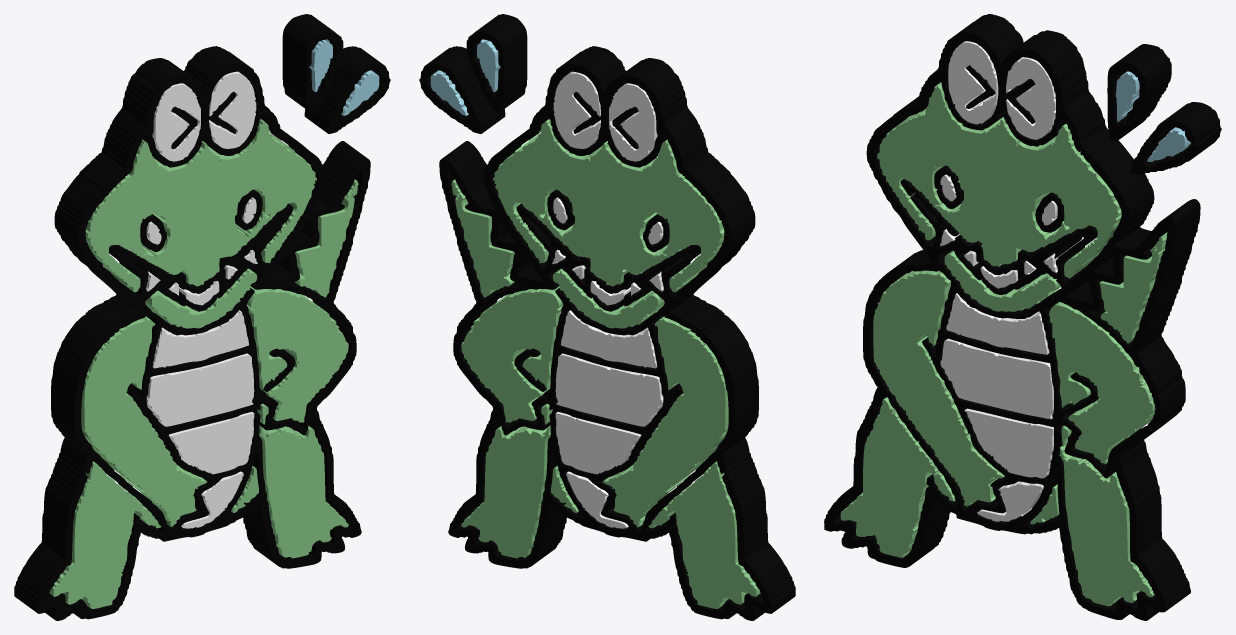
Rendered from keisatu-marker.fbx.
3 renders of one model, left to right at view 1: azimuth 30°, elevation 25°; view 2: azimuth 150°, elevation 25°; view 3: azimuth 330°, elevation 25°, orthographic. The views are drawn at different scales.
Visible parts, largest first — view 1: imagetostl_mesh; view 2: imagetostl_mesh; view 3: imagetostl_mesh.
Boxes of the visible parts, x1,y1,x2,y2 form: imagetostl_mesh: (14,14,390,620); imagetostl_mesh: (419,14,795,620); imagetostl_mesh: (824,14,1221,620).
Bounding box in the file's own units: 3097 × 4442 × 360.
